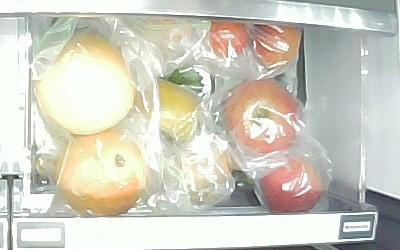apple_vinyl: (220, 79, 301, 154), (254, 152, 324, 214)
grapefruit_vinyl: (34, 31, 136, 134), (53, 130, 148, 218)
persimmon_vinyl: (145, 77, 211, 140)
prune_vinyl: (248, 21, 303, 73), (205, 18, 250, 61)
